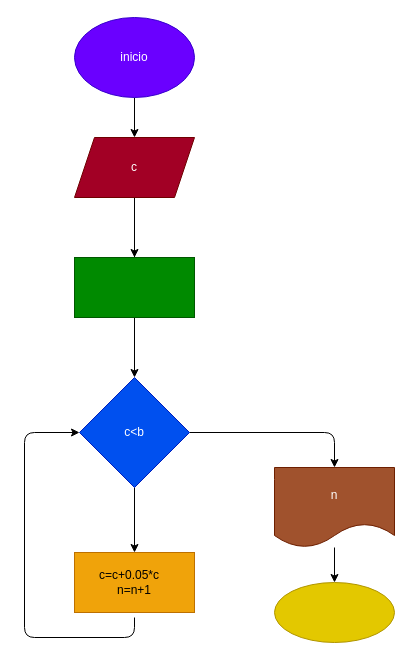
This 412x663 diagram has some shape labels left out. The shapes that lost their labels are listed below. From the top down, each one's centre as x and y in pixels, then its label:
the point at 134,287: b=2*c n=0
the point at 334,612: fin
